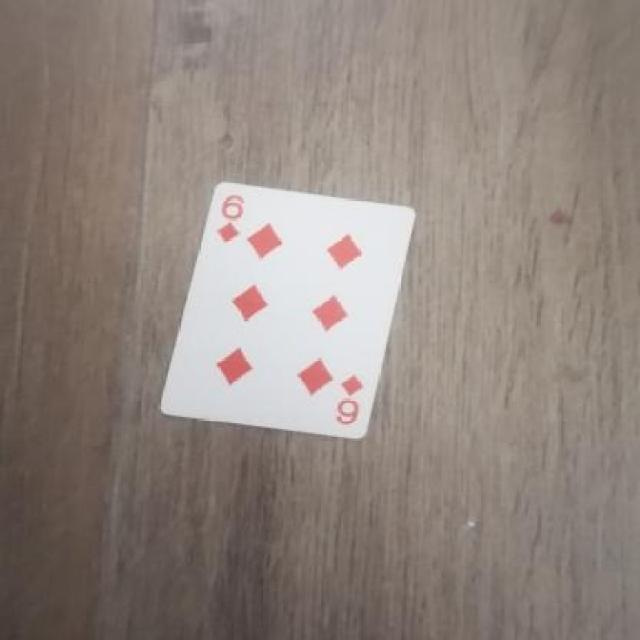6D: (331, 369, 383, 434), (206, 189, 260, 251)
